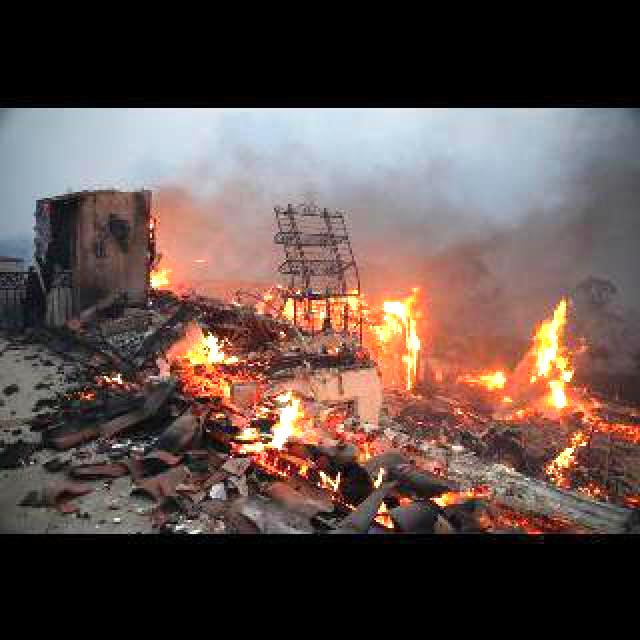helmet: (168, 320, 326, 464), (290, 258, 442, 402), (474, 286, 582, 402), (256, 456, 342, 504), (536, 422, 594, 492), (428, 480, 492, 520), (346, 432, 390, 488), (136, 254, 180, 296)
no_helmet: (408, 101, 640, 280)
